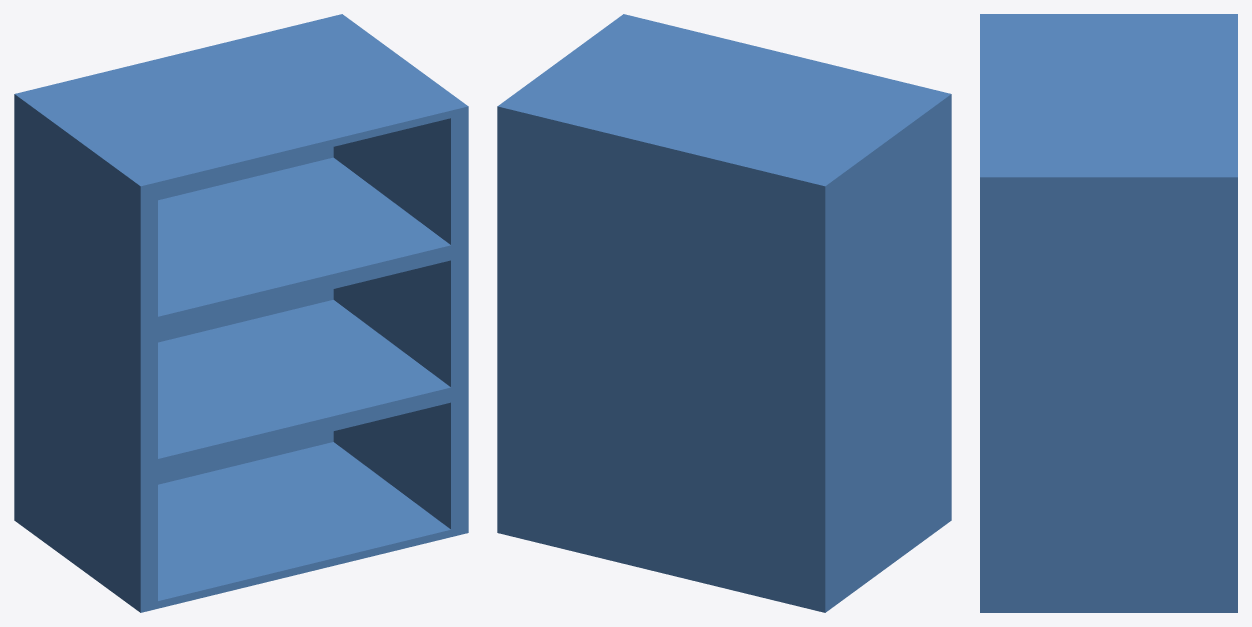
The model's file is LemariBiru.fbx.
The picture shows the model from 3 angles, left to right: view 1: azimuth 30°, elevation 25°; view 2: azimuth 150°, elevation 25°; view 3: azimuth 270°, elevation 25°; orthographic projection. The views are drawn at different scales.
Visible parts, largest first — view 1: LemariAlatKecil.002; view 2: LemariAlatKecil.002; view 3: LemariAlatKecil.002.
Part boxes in pixels (<box>): LemariAlatKecil.002: <box>14,14,468,612</box>; LemariAlatKecil.002: <box>497,14,951,612</box>; LemariAlatKecil.002: <box>980,14,1237,612</box>.
Bounding box in the file's own units: 131 × 163 × 87.42.
